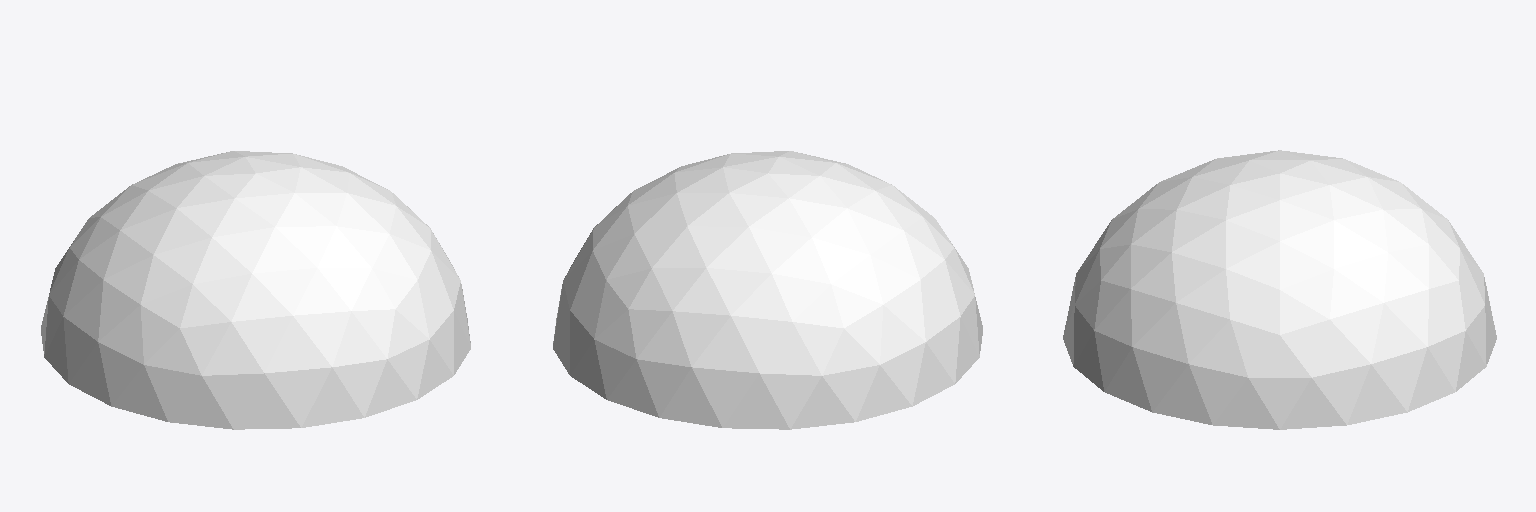
The model's file is Skydome.obj.
3 renders of one model, left to right at view 1: azimuth 30°, elevation 25°; view 2: azimuth 150°, elevation 25°; view 3: azimuth 270°, elevation 25°, orthographic.
Parts seen in each view (by area): view 1: sky; view 2: sky; view 3: sky.
Part boxes in pixels (x1,y1,x2,y2): sky: (41,151,470,429); sky: (553,151,982,429); sky: (1063,150,1496,429).
Size of the model in its own units: 42.26 by 17.8 by 42.43.